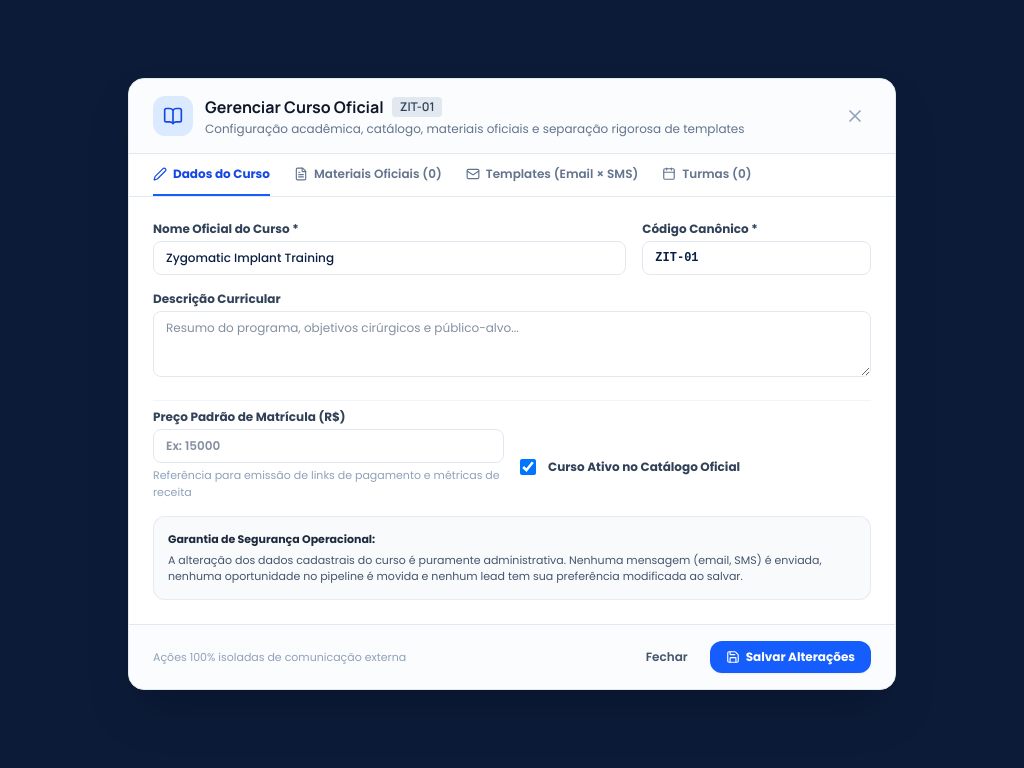
Test: Part A: Global Turma Catalog and Course Date Workflow › 6. ManageCourseModal Simplified UI › displays Turmas deste curso and simplified turma selector
Navigate to Turmas tab
Click the button "Turmas (0)": [707, 175] box [662, 154, 752, 196]
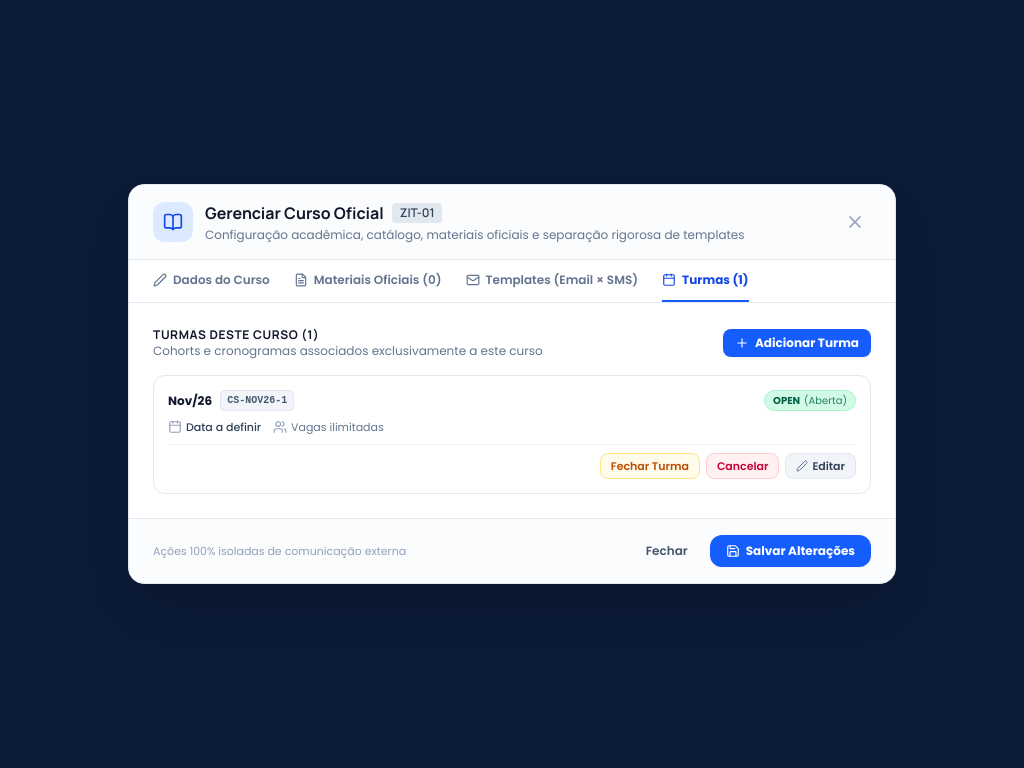
Result: the heading "Turmas deste curso (1)" is shown at [153, 326, 319, 343]
Result: the text "Nov/26" is shown at [168, 392, 212, 408]
Open Add Turma form
Click the button with test id "add-turma-button": [797, 343] box [723, 329, 871, 357]
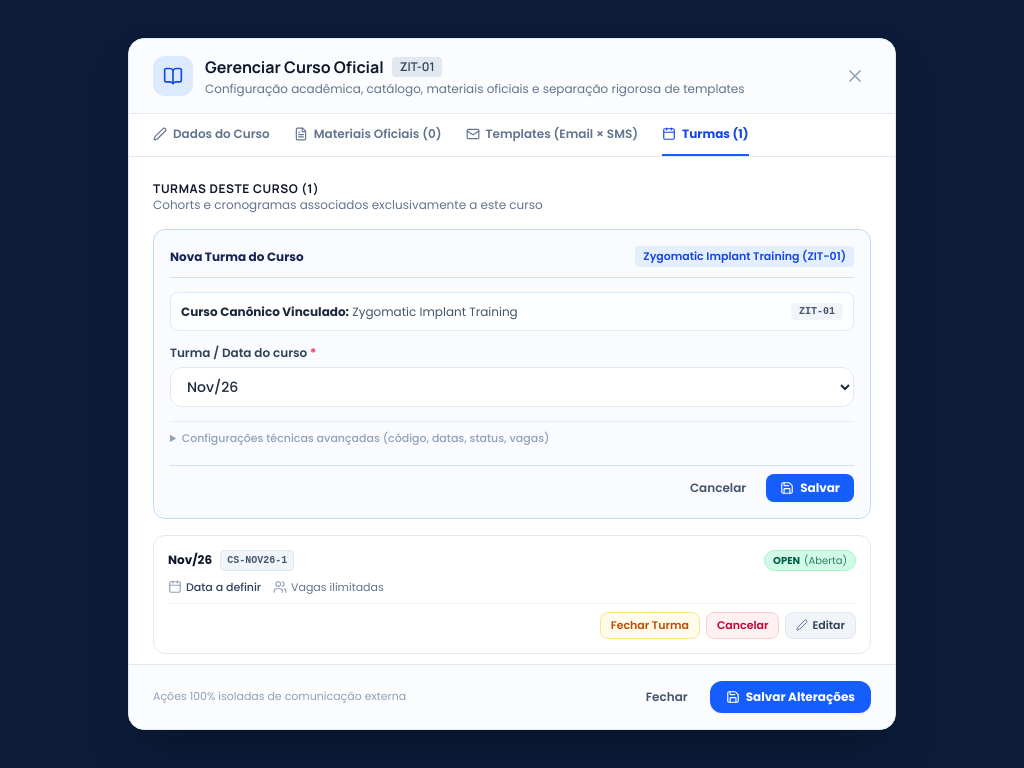
Result: the text "Turma / Data do curso *" is shown at [170, 344, 316, 361]
Result: the button with test id "save-turma-button" is shown at [766, 474, 854, 502]
